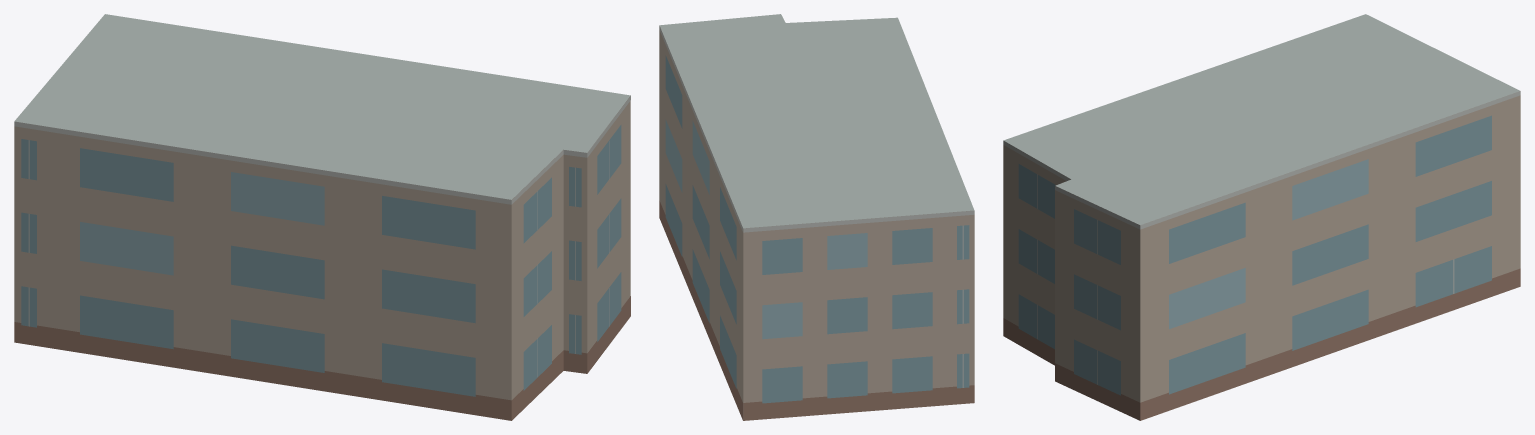
File: survey-upis-32864719.glb
The picture shows the model from 3 angles, left to right: view 1: azimuth 30°, elevation 25°; view 2: azimuth 150°, elevation 25°; view 3: azimuth 270°, elevation 25°; orthographic projection. The views are drawn at different scales.
Parts seen in each view (by area): view 1: survey-upis-32864719.tmp; view 2: survey-upis-32864719.tmp; view 3: survey-upis-32864719.tmp.
Boxes of the visible parts, box(x1,y1,x2,y2) form: survey-upis-32864719.tmp: box(14, 14, 630, 420); survey-upis-32864719.tmp: box(659, 14, 974, 420); survey-upis-32864719.tmp: box(1003, 14, 1520, 420).
Bounding box in the file's own units: 25.48 × 11 × 26.36.
